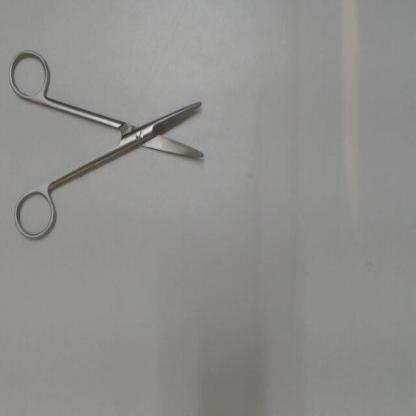Curved Mayo Scissors: (6, 45, 212, 250)
